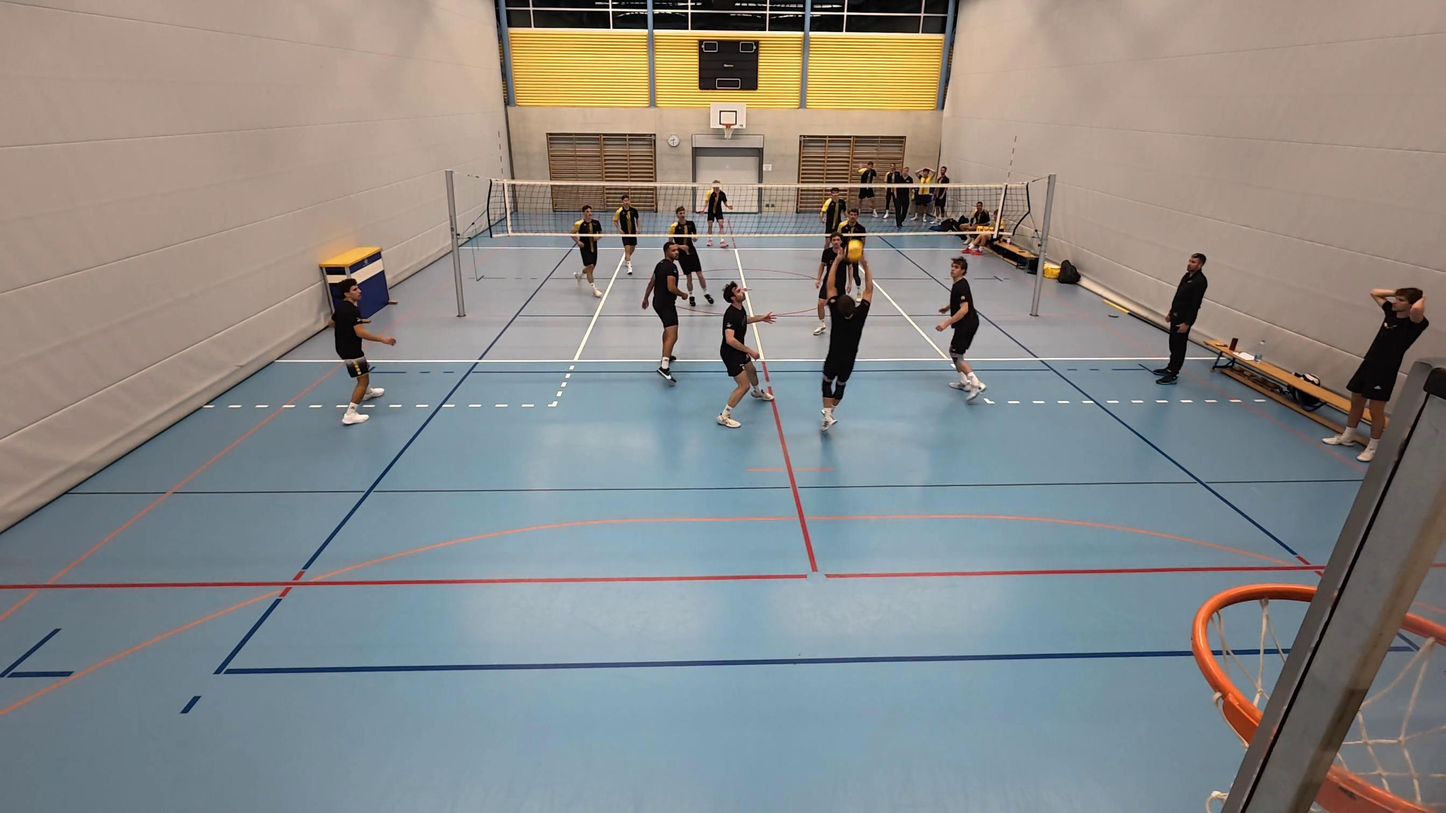difesa: (815, 249, 874, 433)
